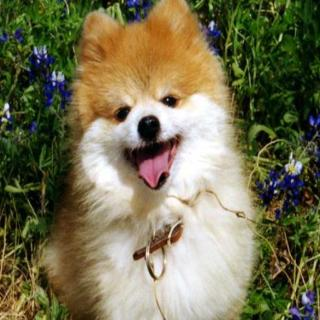dog: (70, 5, 228, 205)
nose: (138, 115, 162, 141)
